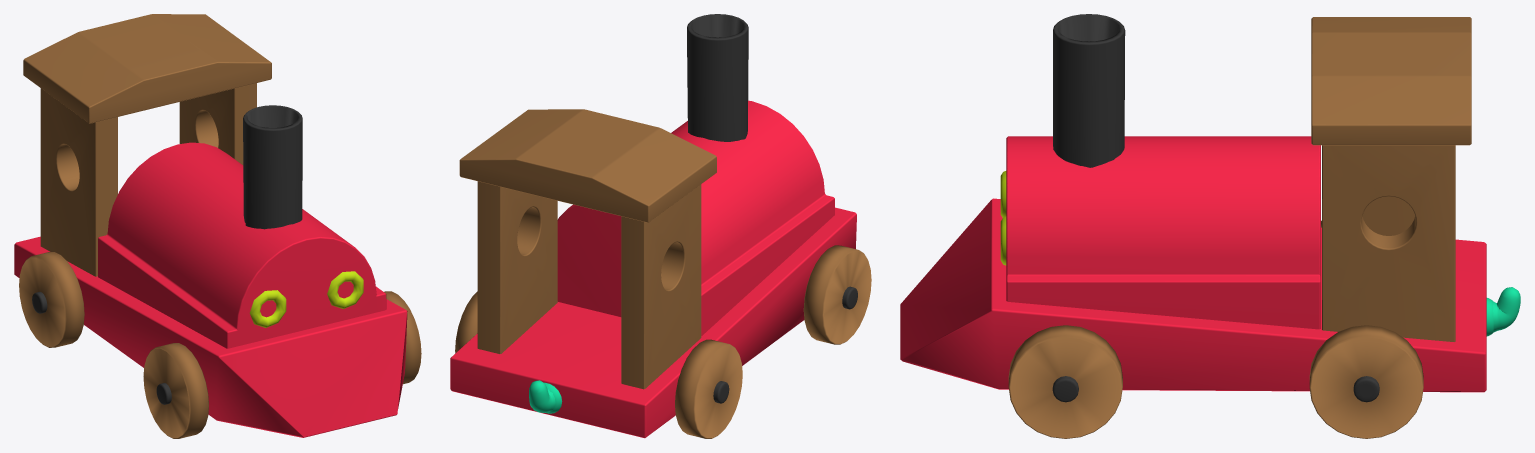
Rendered from locomotive.fbx.
3 renders of one model, left to right at view 1: azimuth 30°, elevation 25°; view 2: azimuth 150°, elevation 25°; view 3: azimuth 270°, elevation 25°, orthographic. The views are drawn at different scales.
Parts seen in each view (by area): view 1: Locomotive, Chimney, wheelsFront, wheelsRear; view 2: Locomotive, Chimney, wheelsRear, wheelsFront; view 3: Locomotive, wheelsRear, wheelsFront, Chimney.
Boxes of the visible parts, left/top/right/bottom form: Locomotive: left=14, top=14, right=407, bottom=437; Chimney: left=243, top=105, right=302, bottom=229; wheelsFront: left=143, top=291, right=421, bottom=438; wheelsRear: left=19, top=252, right=84, bottom=347; Locomotive: left=450, top=100, right=856, bottom=438; Chimney: left=687, top=14, right=748, bottom=141; wheelsRear: left=455, top=291, right=742, bottom=438; wheelsFront: left=803, top=245, right=871, bottom=344; Locomotive: left=900, top=17, right=1520, bottom=392; wheelsRear: left=1309, top=220, right=1423, bottom=438; wheelsFront: left=1008, top=325, right=1122, bottom=438; Chimney: left=1053, top=14, right=1125, bottom=167.
Size of the model in its own units: 0.901 by 1.01 by 1.65.
